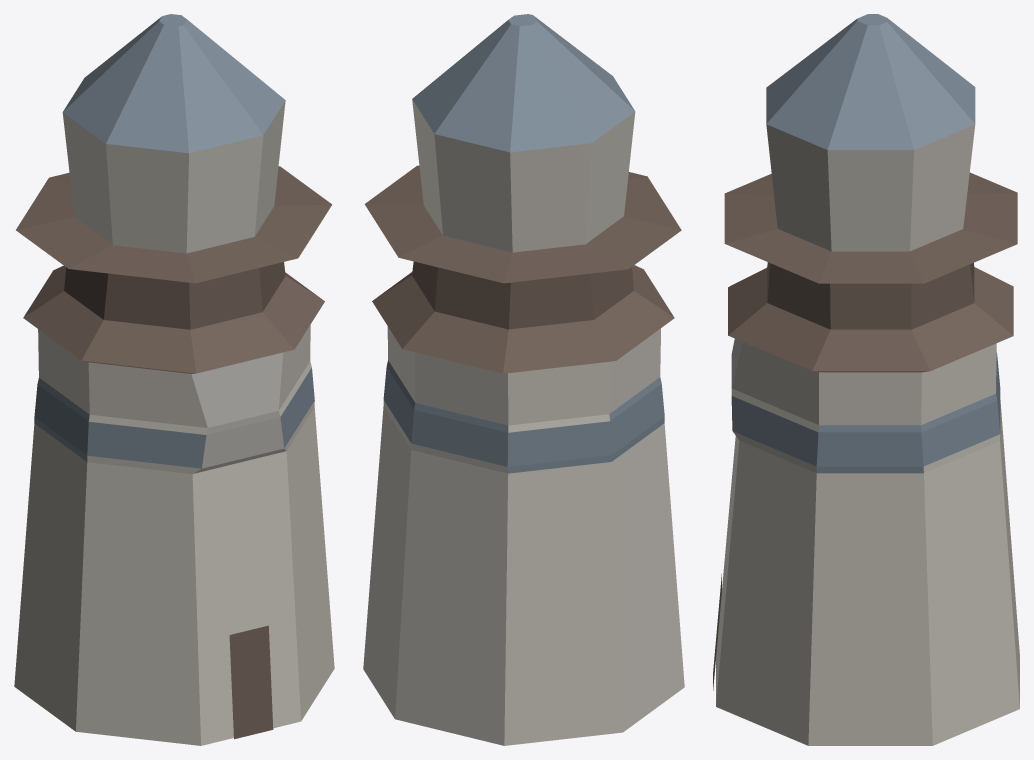
The model's file is loin.glb.
The picture shows the model from 3 angles, left to right: view 1: azimuth 30°, elevation 25°; view 2: azimuth 150°, elevation 25°; view 3: azimuth 270°, elevation 25°; orthographic projection.
Visible parts, largest first — view 1: loin; view 2: loin; view 3: loin.
Part boxes in pixels (bbox=[...]): loin: bbox=[14, 14, 334, 745]; loin: bbox=[363, 14, 684, 745]; loin: bbox=[713, 14, 1019, 745].
Bounding box in the file's own units: 0.4038 × 0.9601 × 0.4031.
